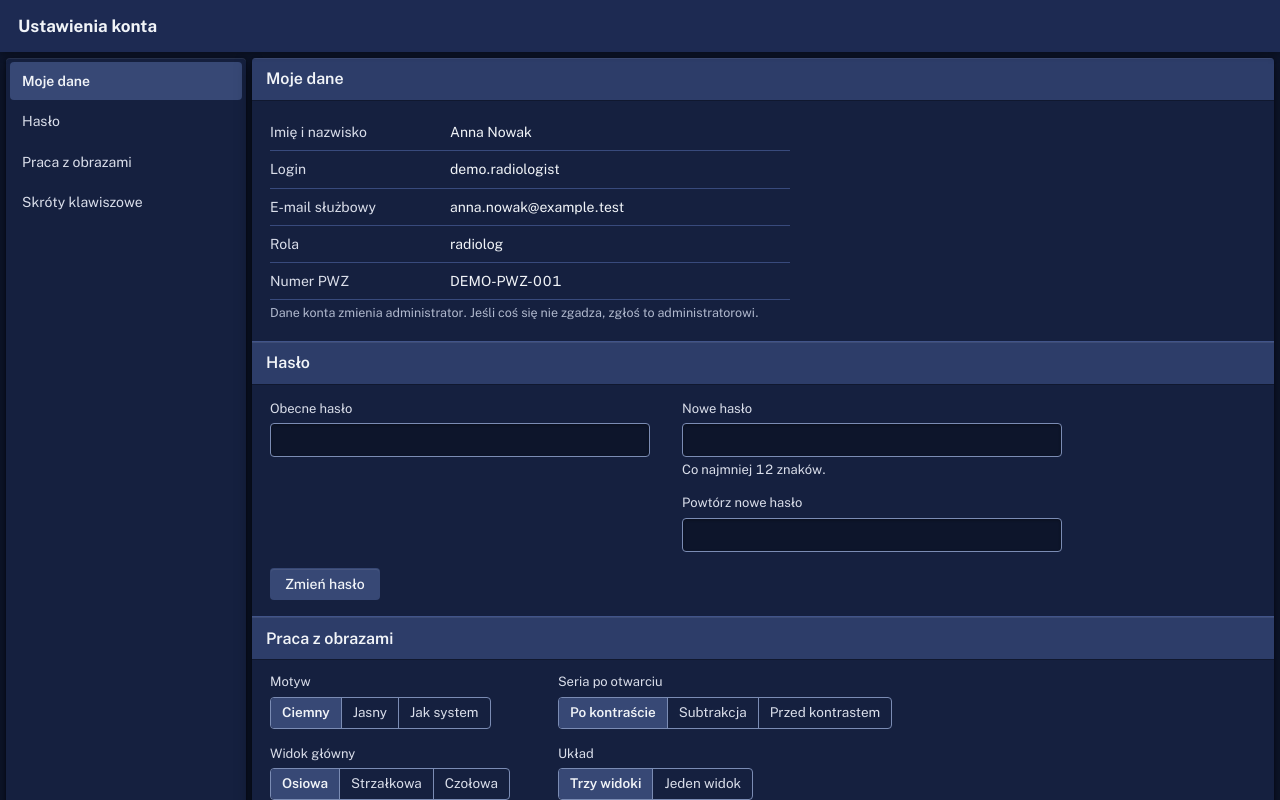
Scenario: AccountPage › says why the password wasn't changed
The width and height of the screenshot is (1280, 800).
Type "zle" into the password field labelled "Obecne hasło".
click(460, 440); type("zle")  # box x1=270 y1=424 x2=650 y2=458
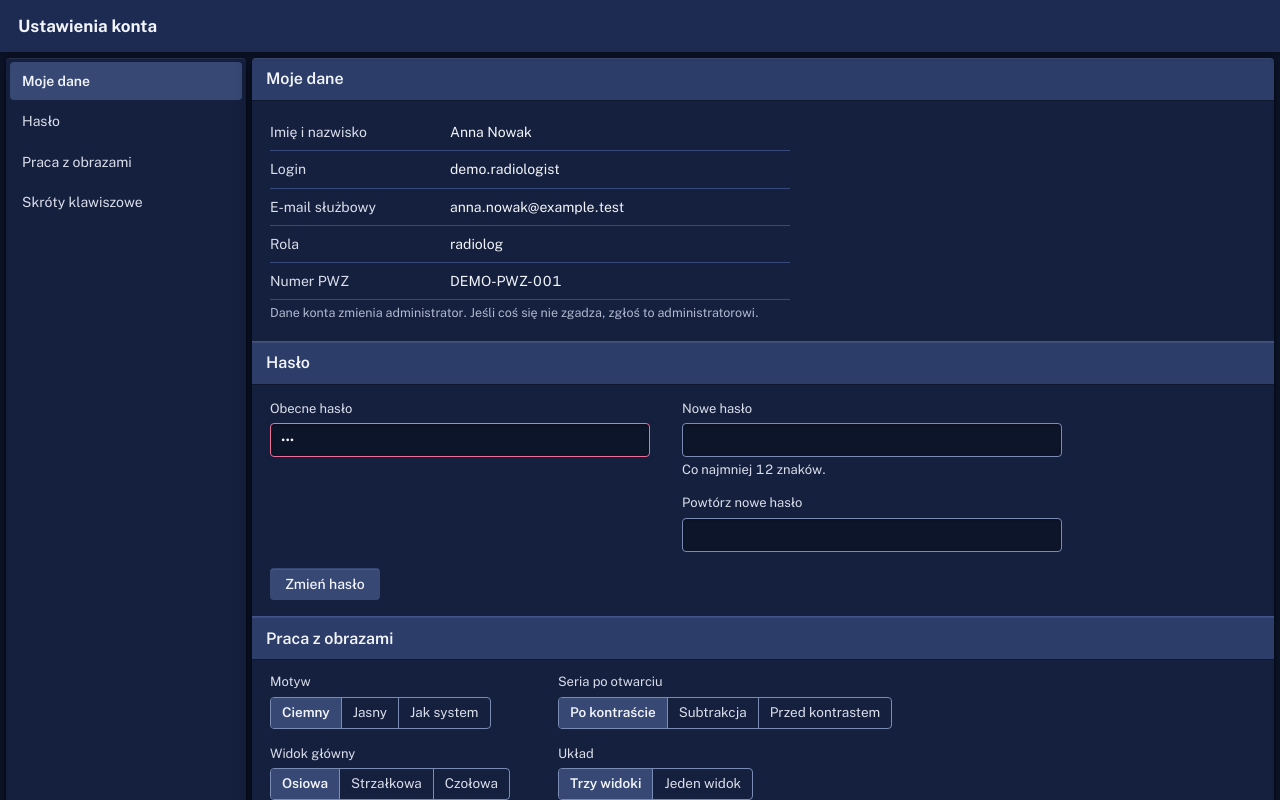
Type "NoweHaslo2026!" into the password field labelled "Nowe hasło Co najmniej 12 znaków.".
click(872, 440); type("NoweHaslo2026!")  # box x1=682 y1=424 x2=1062 y2=458
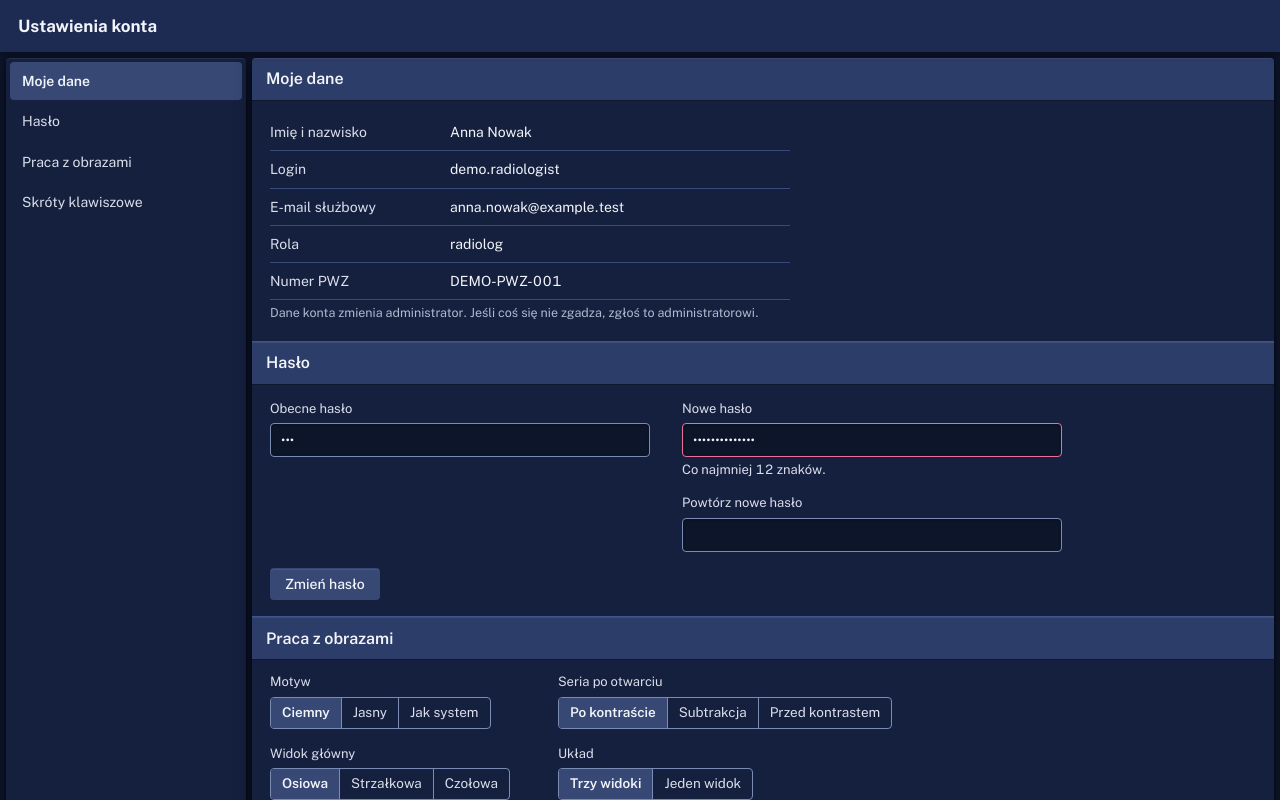
Type "NoweHaslo2026!" into the password field labelled "Powtórz nowe hasło".
click(872, 535); type("NoweHaslo2026!")  # box x1=682 y1=518 x2=1062 y2=552
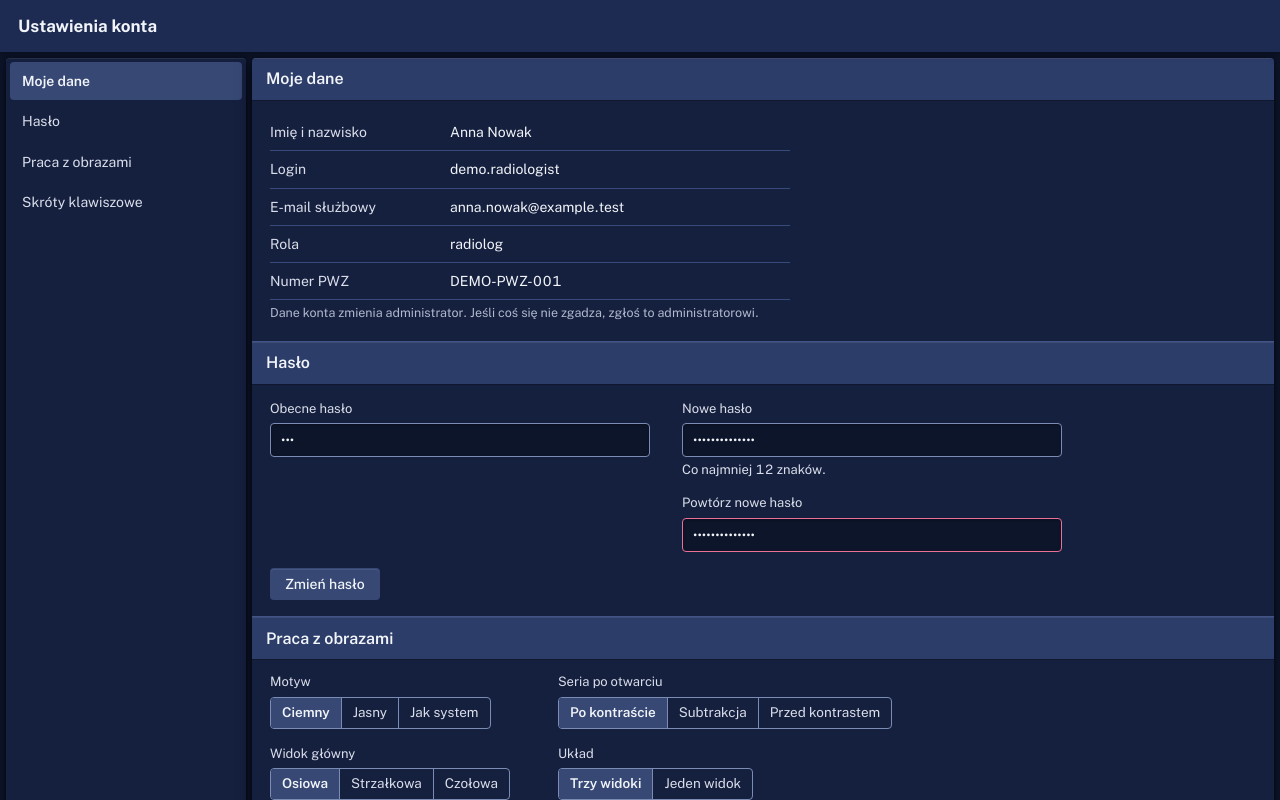
Click the button "Zmień hasło".
click(325, 584)  # box x1=270 y1=568 x2=380 y2=600
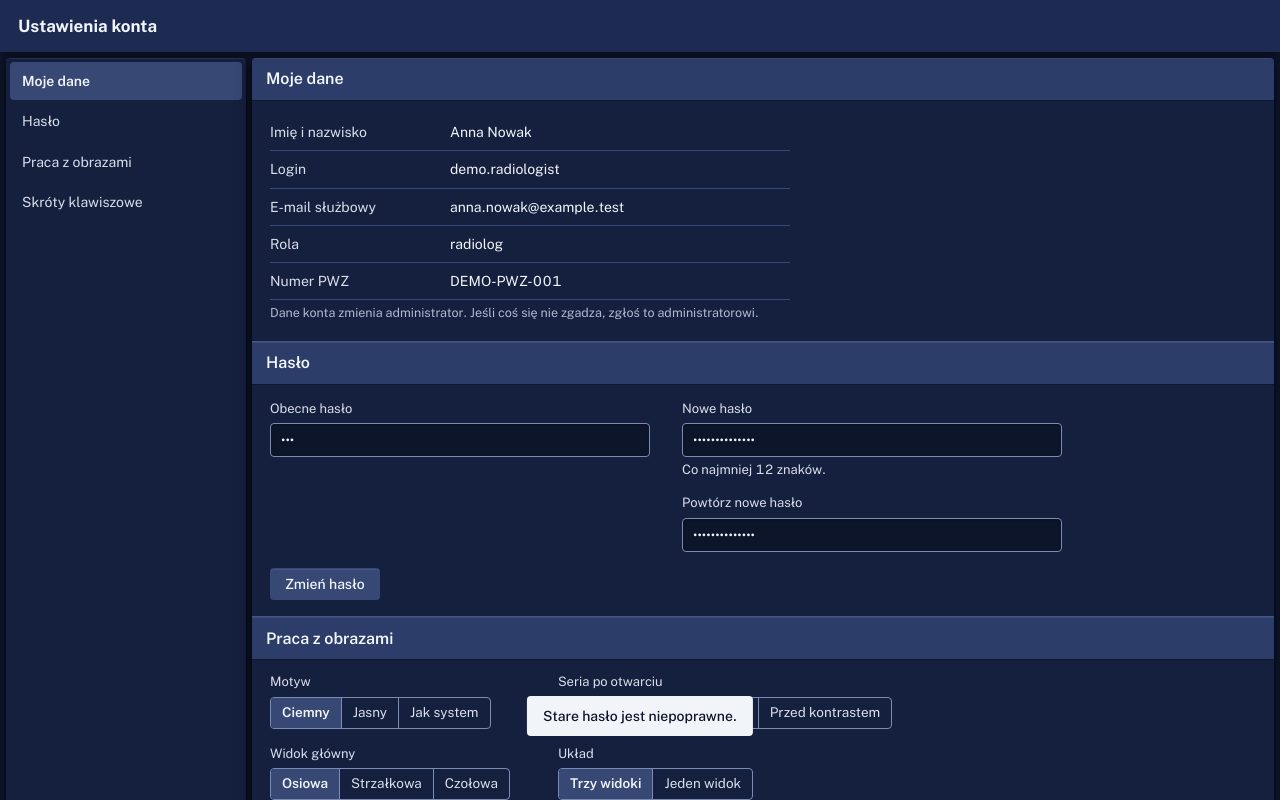
Expected: the message reads "Stare hasło jest niepoprawne.", x1=543 y1=708 x2=737 y2=724
